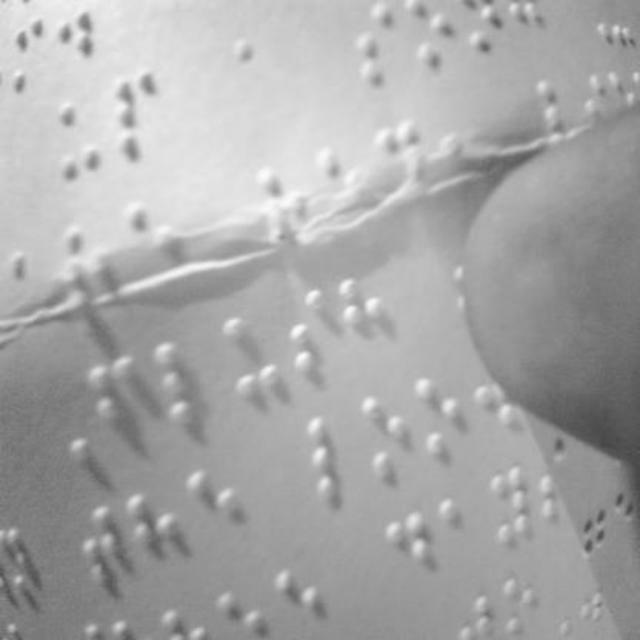braiile: (282, 279, 334, 386), (50, 84, 106, 182), (68, 499, 124, 595), (222, 312, 280, 404), (186, 459, 240, 555), (410, 374, 466, 466), (154, 334, 212, 422), (112, 66, 164, 164), (361, 394, 414, 490), (382, 502, 432, 602), (308, 412, 362, 504), (125, 492, 178, 584), (89, 353, 138, 451), (434, 495, 482, 581), (491, 457, 534, 547), (276, 568, 320, 640)
